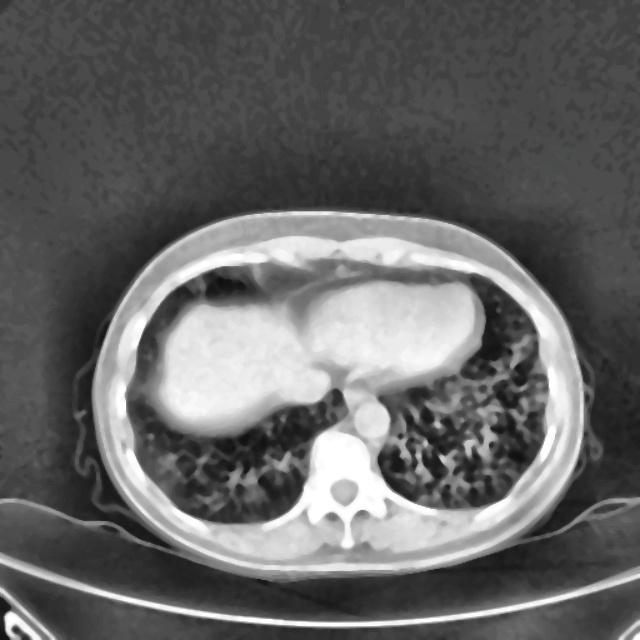covid: (89, 211, 585, 577)
